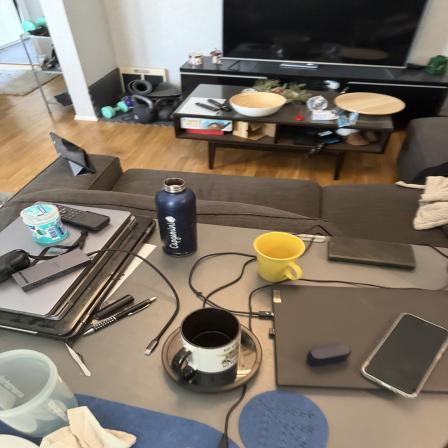blue_bottle: (155, 176, 201, 258)
phone: (366, 308, 448, 400), (330, 234, 422, 272)
yellow_cup: (253, 230, 305, 284)
